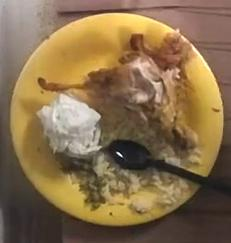chicken: (86, 52, 184, 135)
rice: (92, 148, 198, 213), (100, 127, 176, 159)
